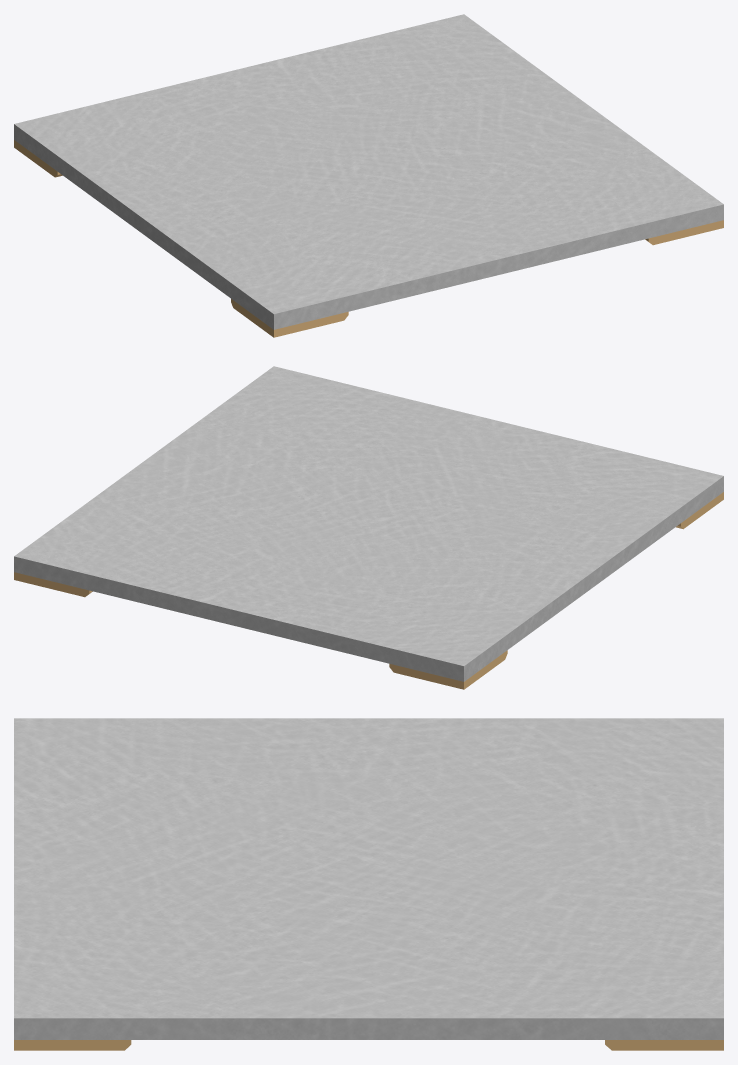
Rendered from Ceiling Center.fbx.
The picture shows the model from 3 angles, top to bottom: view 1: azimuth 30°, elevation 25°; view 2: azimuth 150°, elevation 25°; view 3: azimuth 270°, elevation 25°; orthographic projection. The views are drawn at different scales.
Visible parts, largest first — view 1: Ceiling Center; view 2: Ceiling Center; view 3: Ceiling Center.
Part boxes in pixels (x1,y1,x2,y2): Ceiling Center: (14,14,723,337); Ceiling Center: (14,366,723,689); Ceiling Center: (14,718,723,1050).
Size of the model in its own units: 6 by 0.3 by 6.
